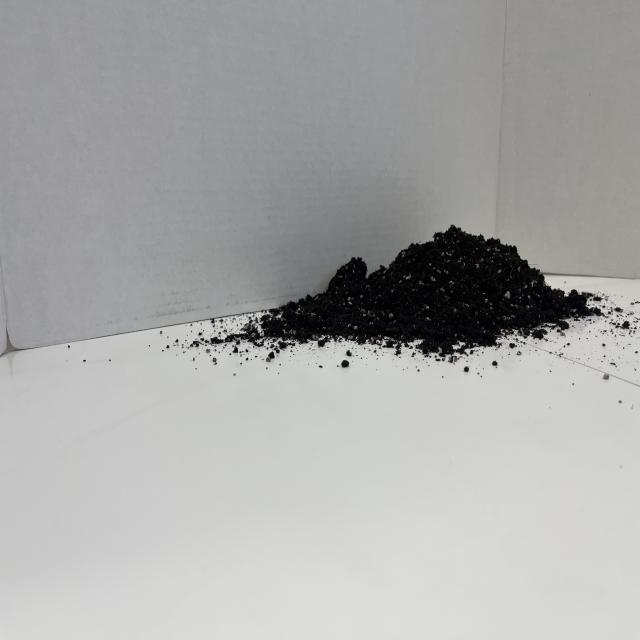soil: (252, 222, 600, 355)
